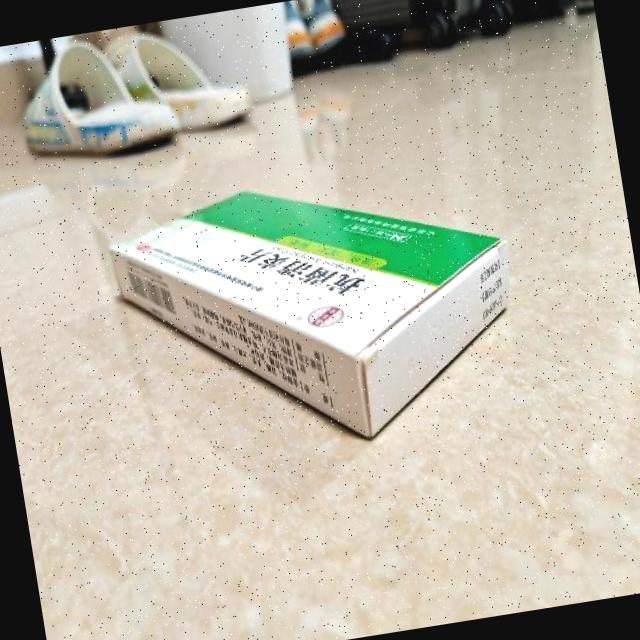box: (103, 152, 530, 476)
